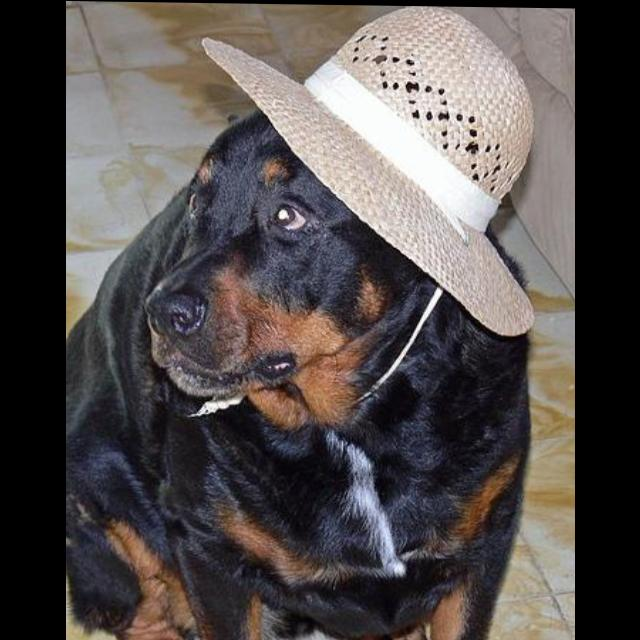person: (66, 102, 532, 640)
